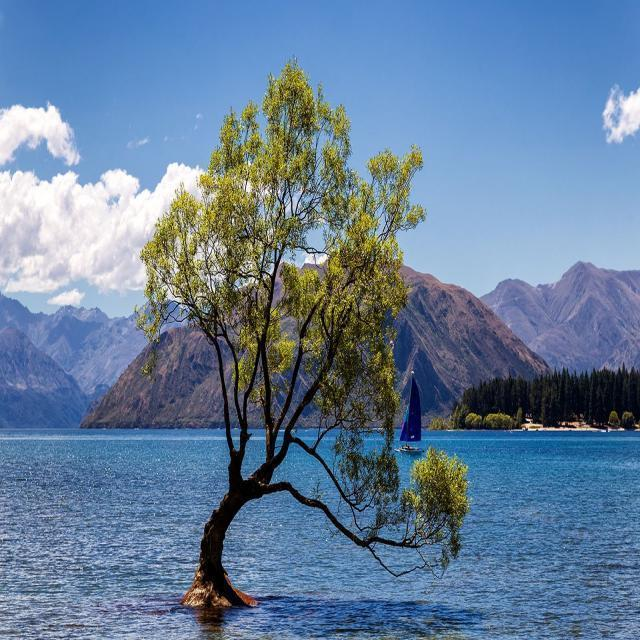tree: (137, 64, 480, 620)
